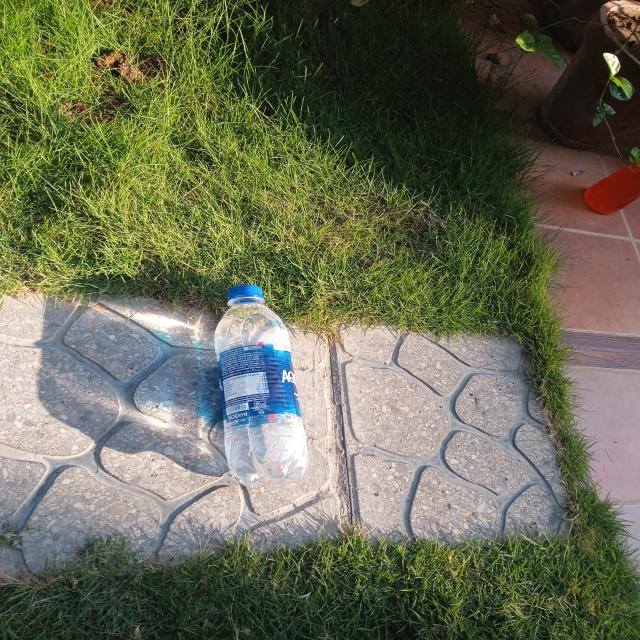Plastic: (220, 282, 300, 484)
